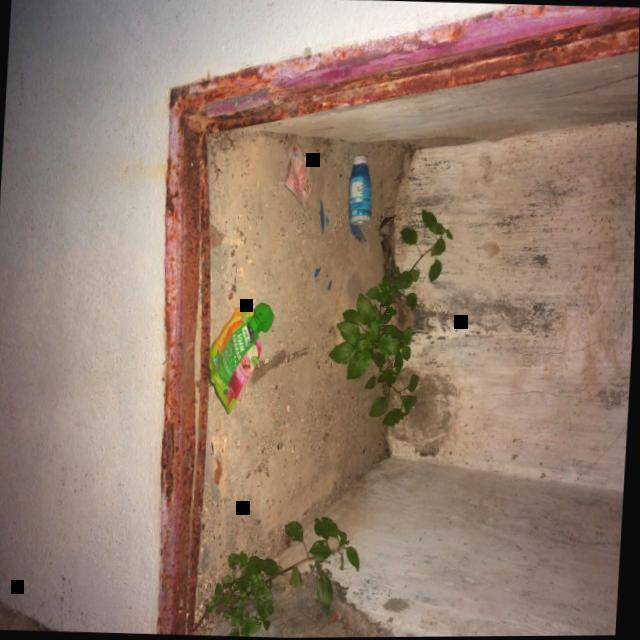Other plastic: (284, 140, 314, 211)
Other plastic bottle: (350, 219, 368, 242), (320, 199, 325, 234), (315, 267, 321, 276), (328, 279, 332, 289), (326, 215, 329, 226)
Other plastic container: (349, 155, 372, 224)
Squeezable tube: (211, 301, 275, 414)
